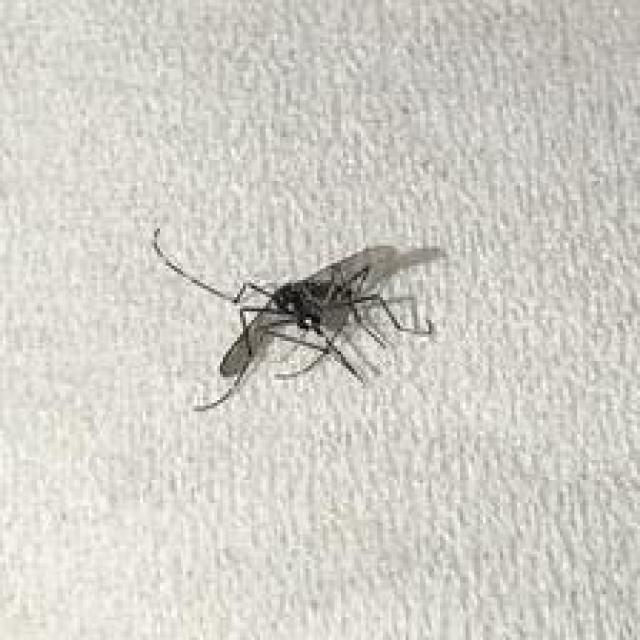Aedes albopictus: (150, 226, 447, 414)
